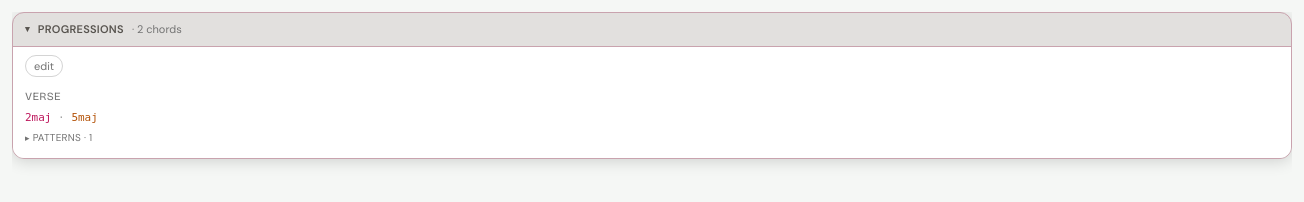
Test case: patterns list › expands on tap
Click the button "▸ patterns · 1".
click(59, 138)  # box [25, 130, 92, 146]
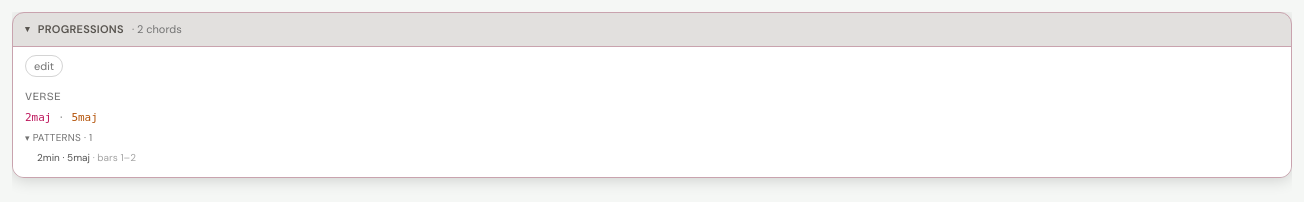
expect the number of lists is 1: met, box [37, 150, 136, 164]
expect the text "bars 1–2" is shown: met, box [97, 150, 136, 164]
